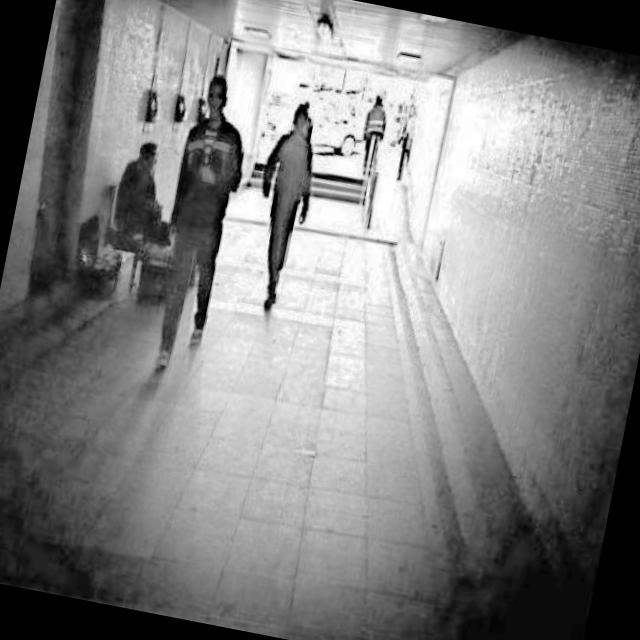Person: (140, 65, 264, 378), (235, 94, 327, 323), (354, 87, 396, 180)
